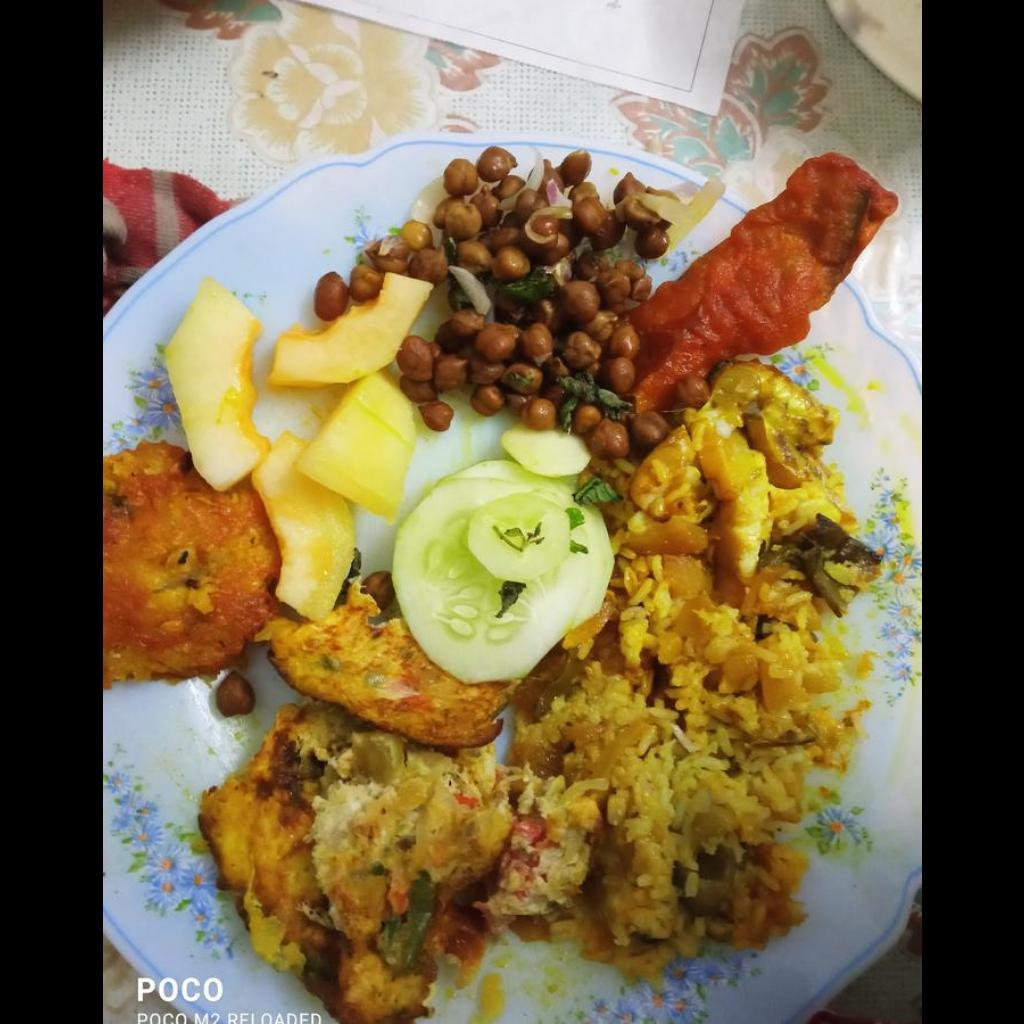beguni: (631, 157, 902, 391)
chicken: (199, 704, 524, 1023)
chola: (316, 154, 665, 438)
cucumber: (388, 465, 609, 685)
khichuri: (487, 364, 876, 975)
papaya: (167, 280, 418, 619)
peyaju: (103, 445, 264, 691)
